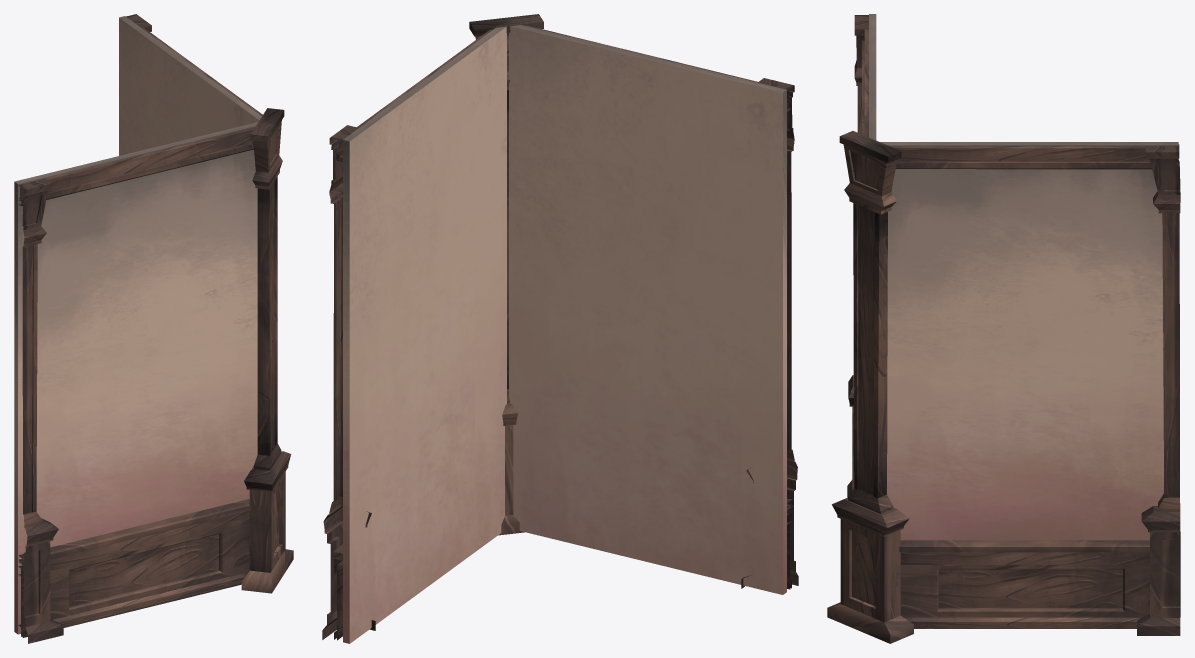
Rendered from Wall_OuterCorner.fbx.
3 views of the same model, side by side, from view 1: azimuth 30°, elevation 25°; view 2: azimuth 150°, elevation 25°; view 3: azimuth 270°, elevation 25° (orthographic). The views are drawn at different scales.
Parts seen in each view (by area): view 1: Outer_Corner_Wall; view 2: Outer_Corner_Wall; view 3: Outer_Corner_Wall.
Part boxes in pixels (x1=…): Outer_Corner_Wall: x1=14, y1=14, x2=293, y2=643; Outer_Corner_Wall: x1=322, y1=14, x2=798, y2=643; Outer_Corner_Wall: x1=827, y1=14, x2=1180, y2=643.
Bounding box in the file's own units: 0.0279 × 0.0422 × 0.028.
